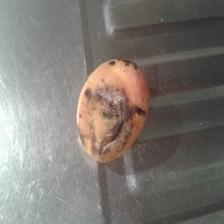Mango Rotten: (74, 55, 150, 163)
